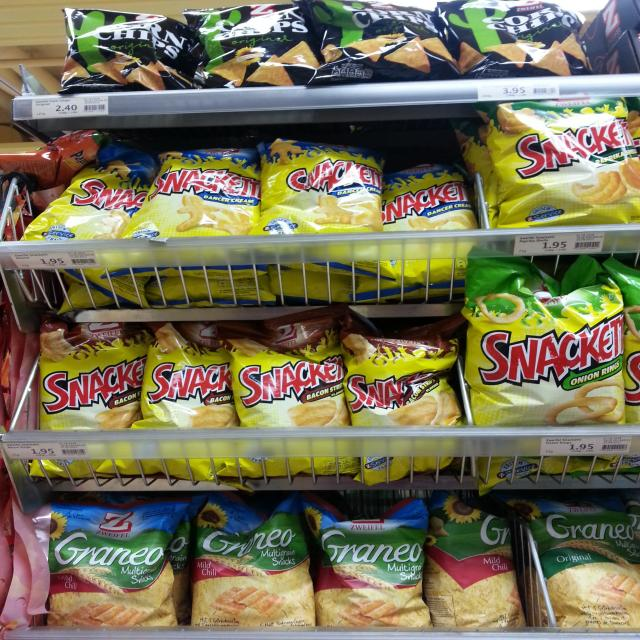Chips: (463, 259, 635, 422), (465, 94, 634, 227), (39, 503, 188, 631), (516, 495, 640, 635), (183, 499, 315, 629), (417, 494, 524, 640), (304, 506, 432, 626), (114, 142, 274, 237), (31, 320, 140, 441), (440, 0, 601, 77), (302, 0, 451, 83), (239, 314, 340, 433), (266, 130, 372, 243), (22, 153, 142, 251), (51, 4, 190, 88), (341, 334, 463, 422), (183, 6, 311, 89), (134, 326, 232, 430), (369, 160, 475, 254)
